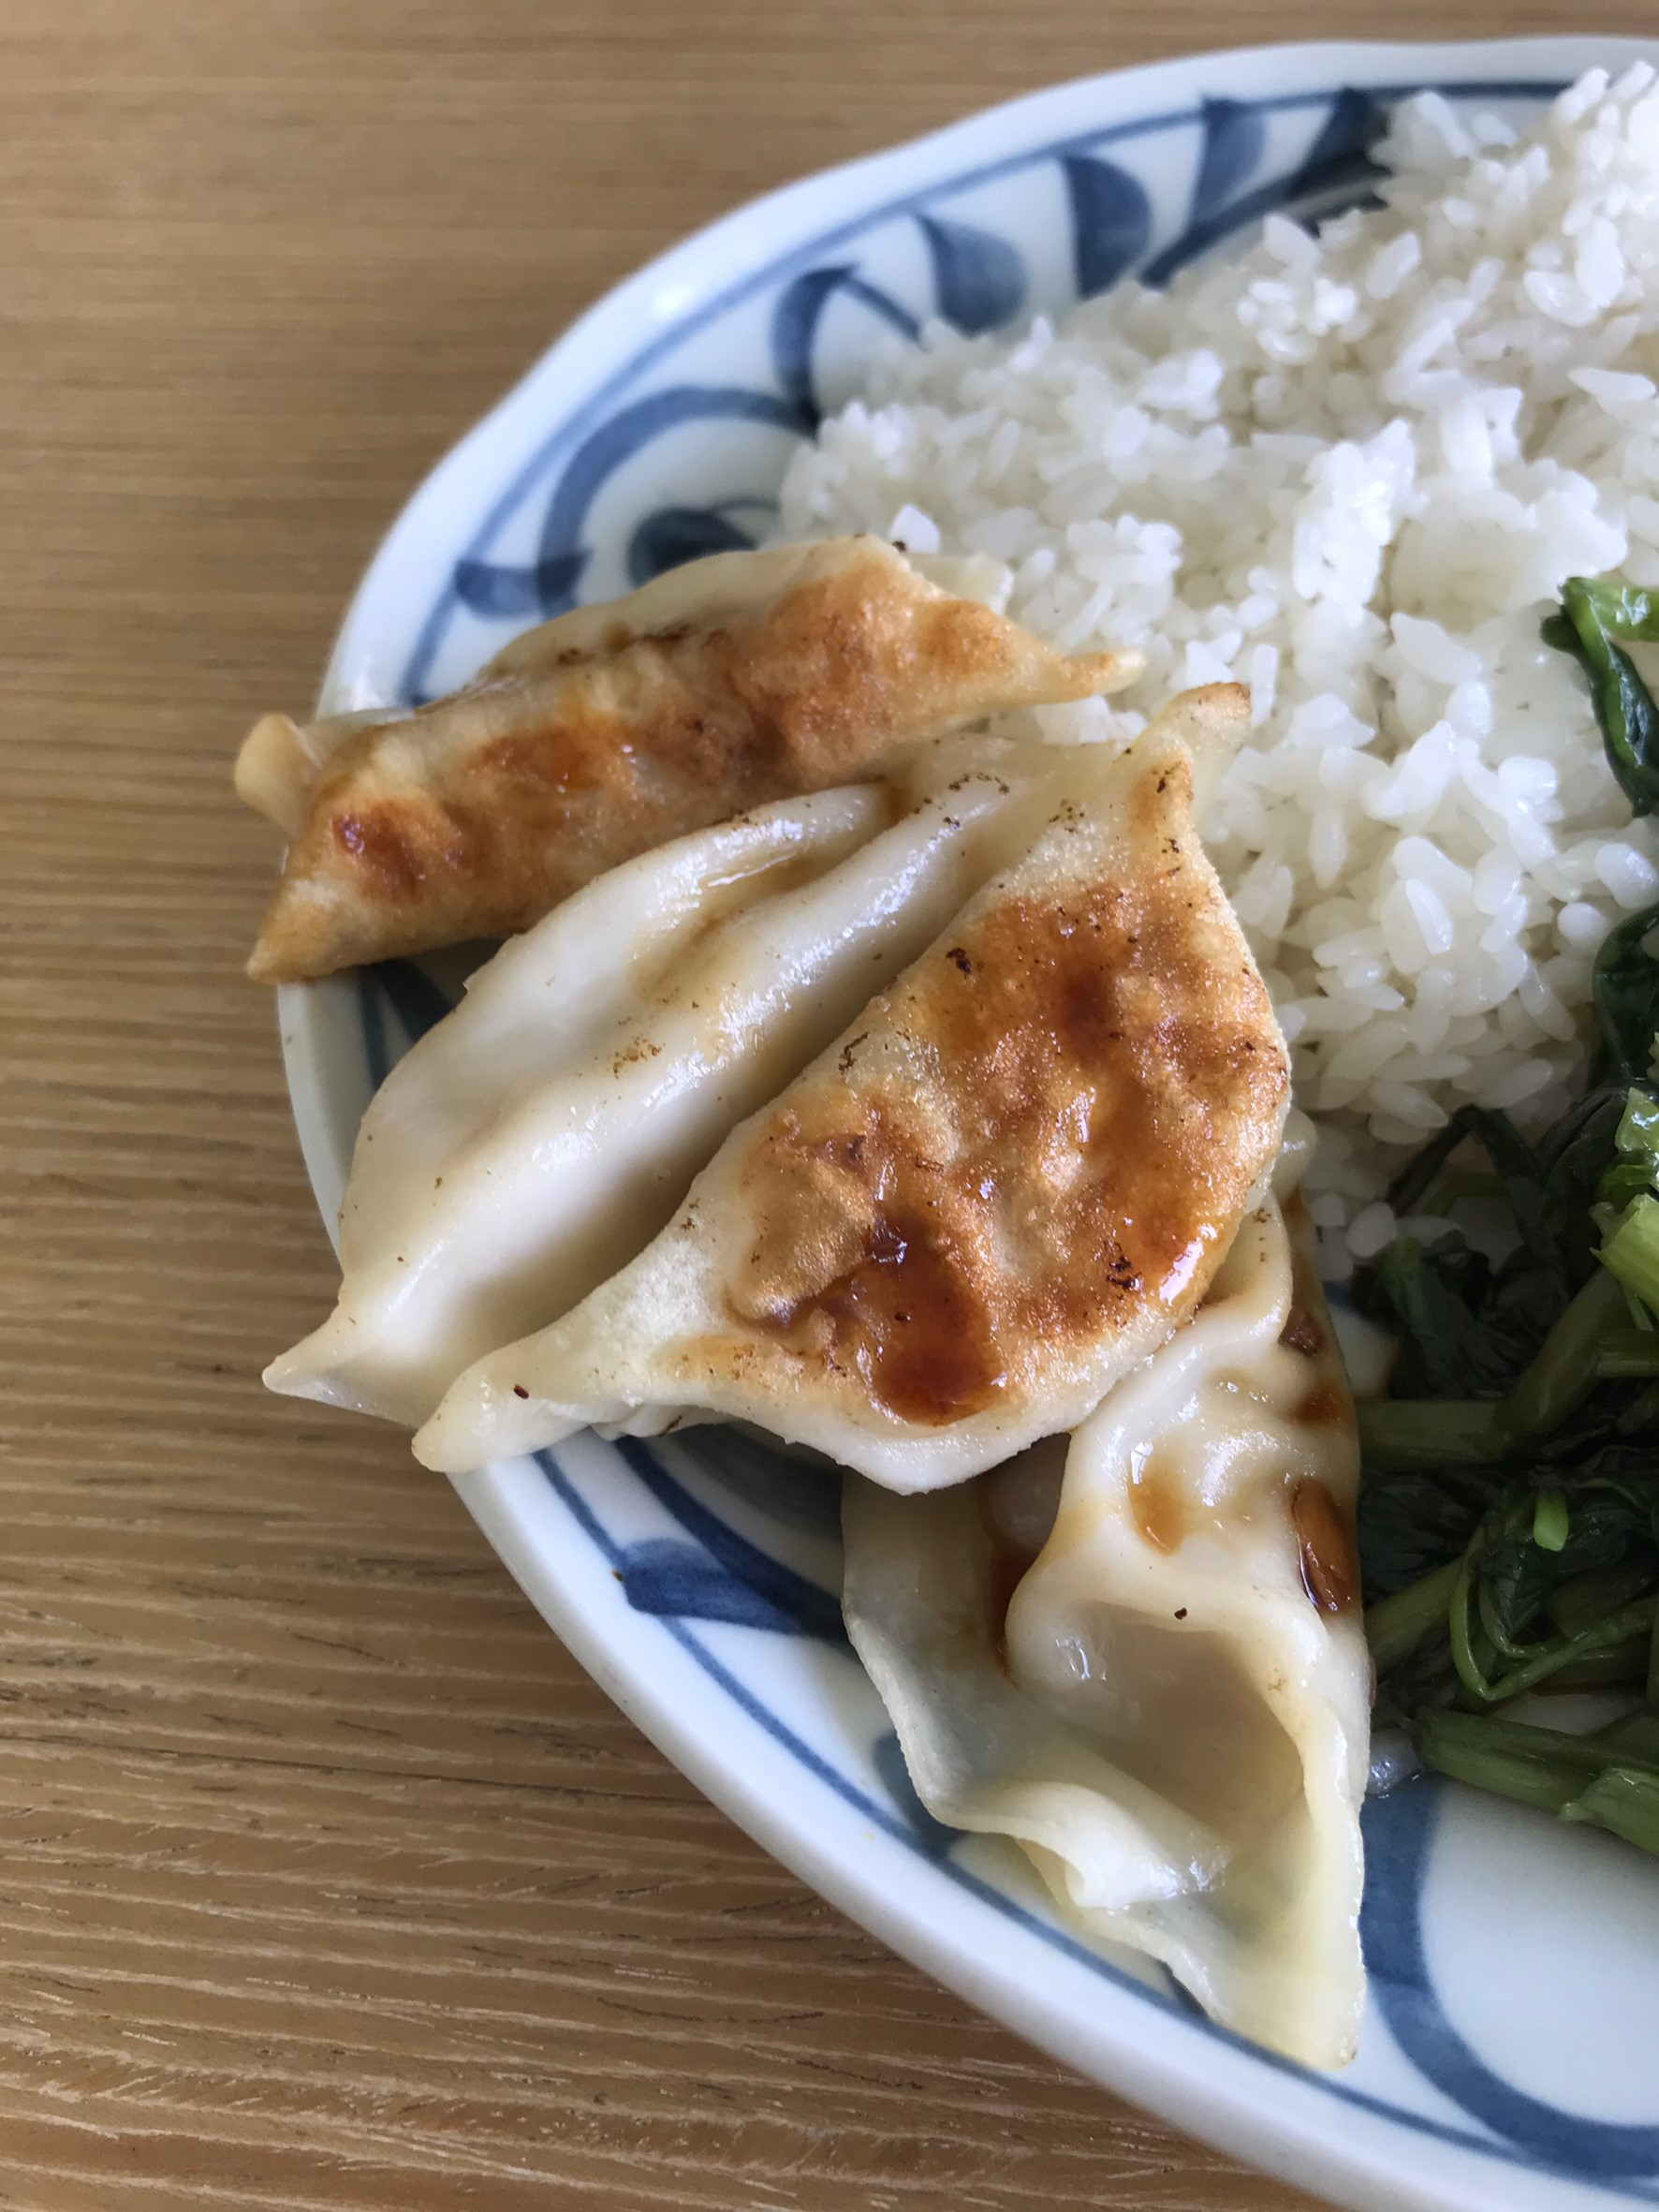fried_dumplings: (434, 621, 1290, 1806)
rice: (1110, 160, 1659, 811)
water_spinach: (1410, 913, 1659, 1750)
